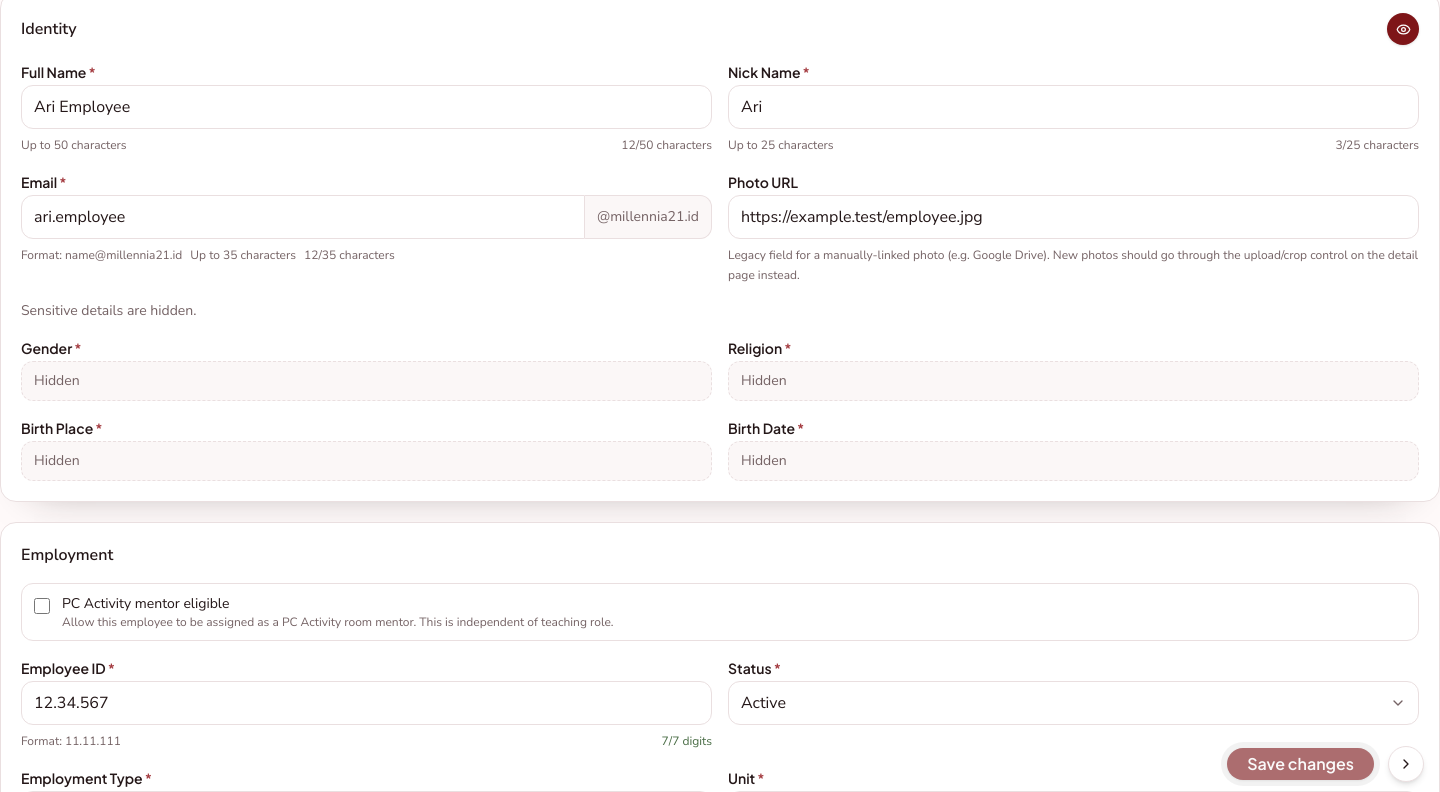
Test: EmployeeForm › locks sensitive identity fields after the one-day edit window
Expected: the field showing "3174 0101 0190 0001" is not shown
Click the button named "Show Sensitive Fields" at (1403, 29), box [1387,13,1419,45]
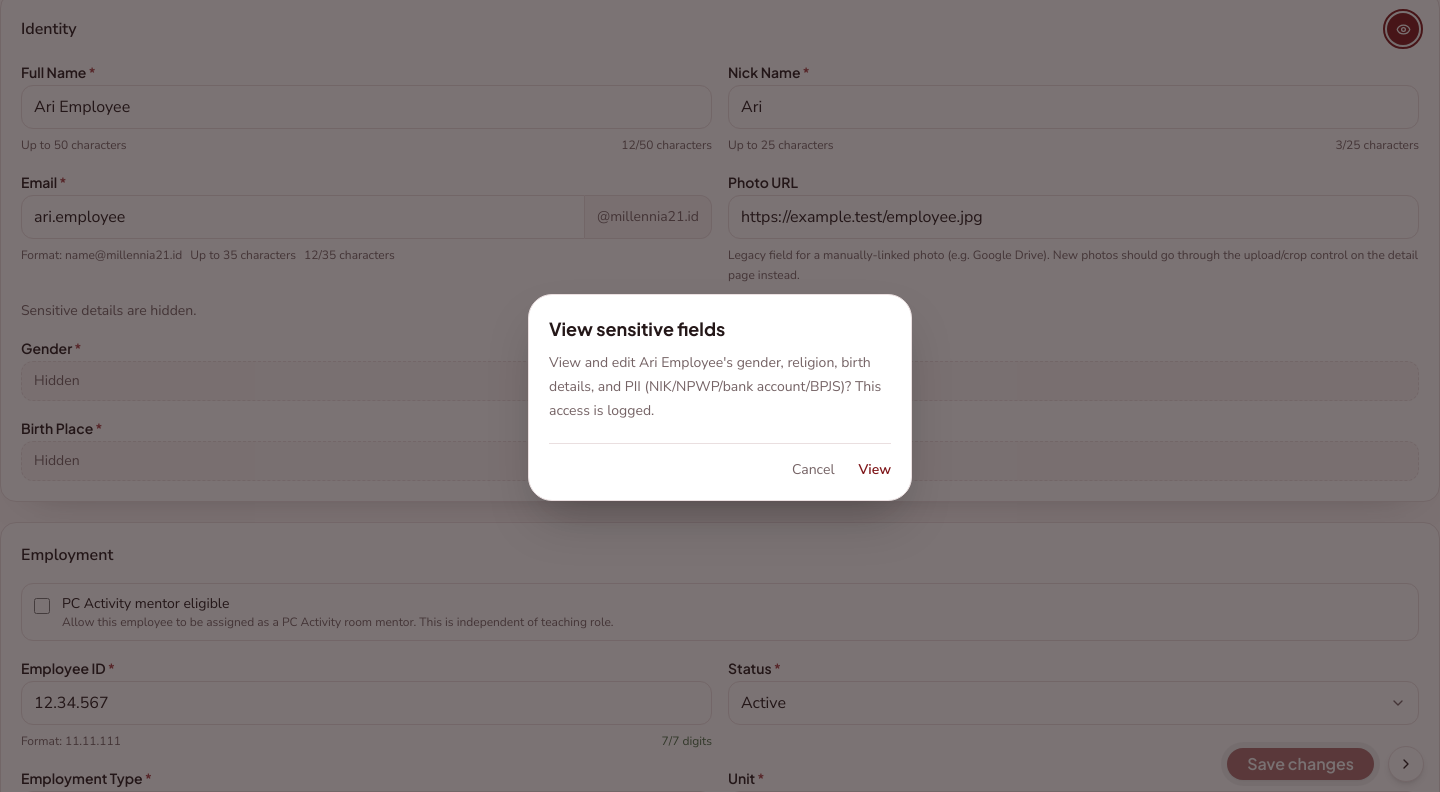
Click the button "View" at (875, 470), box [858,460,891,480]
(page scrolled)
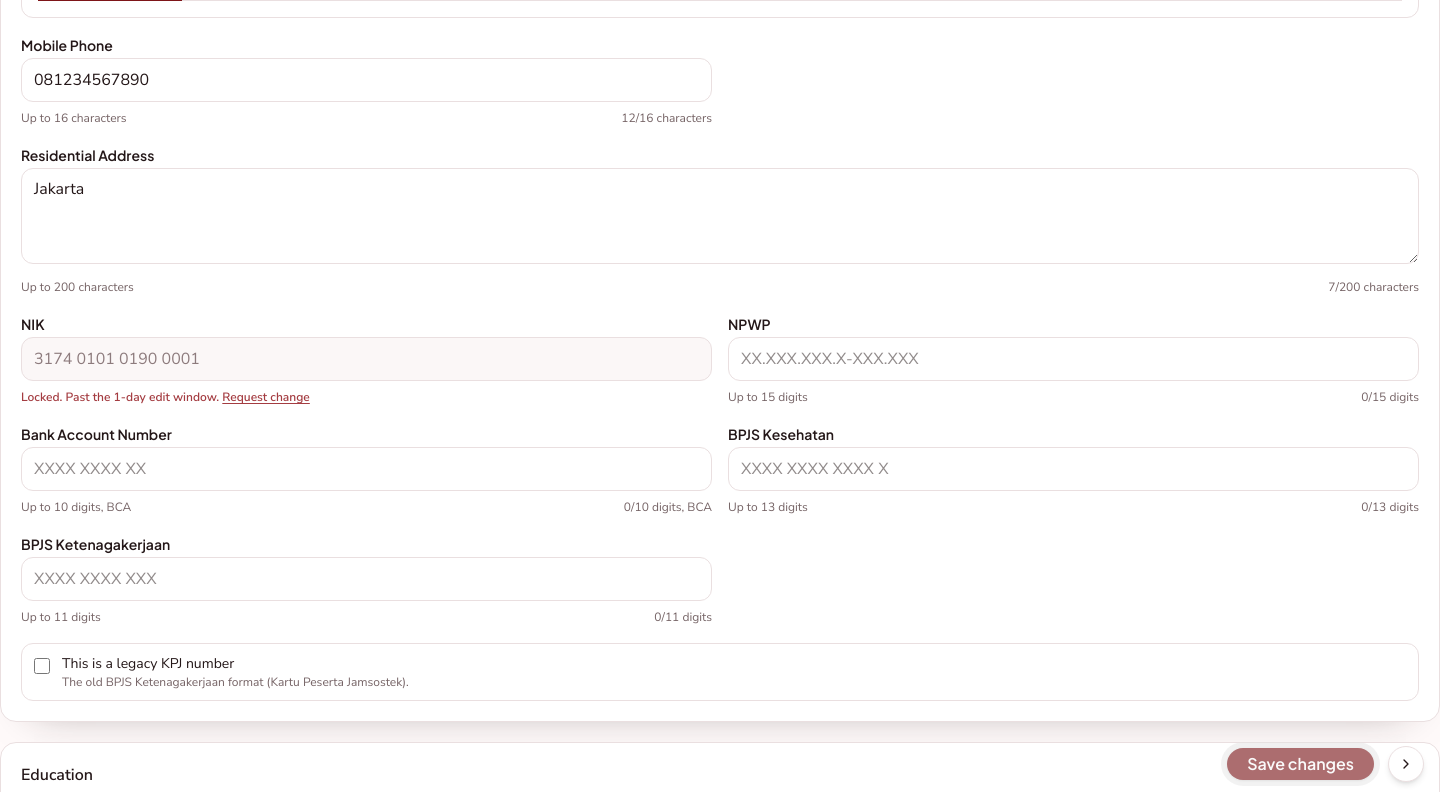
Expected: the 2nd field showing "3174 0101 0190 0001" is disabled, [21,337,712,381]
Expected: the text "Locked. Past the 1-day edit window. Request change" is shown, [21,389,310,405]
